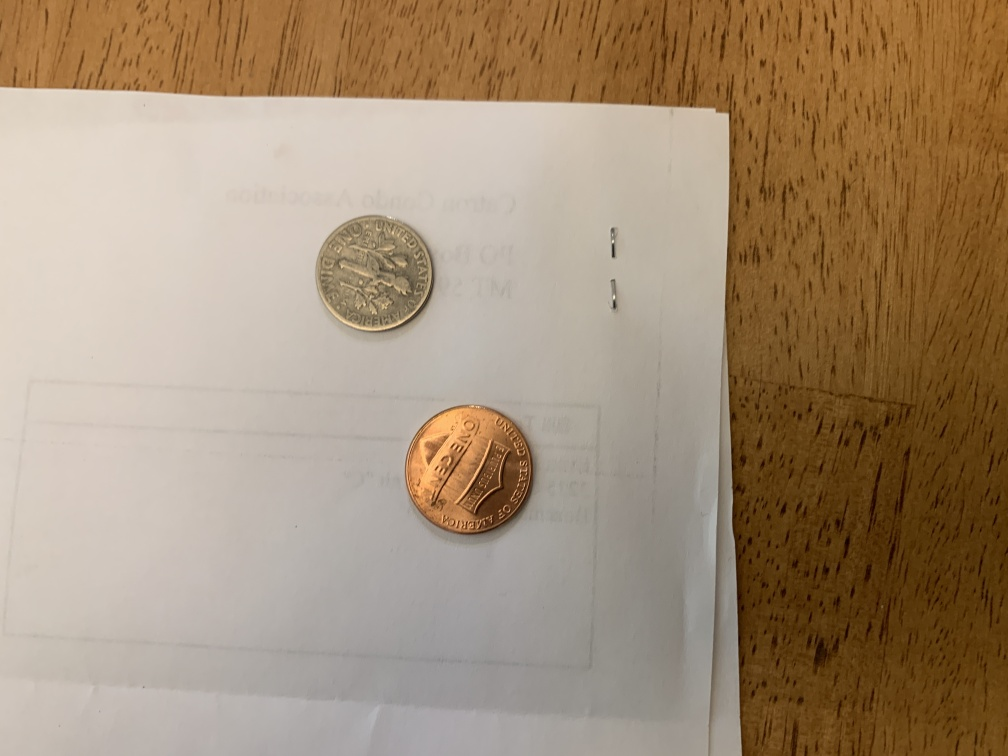dime: (312, 210, 437, 340)
penny: (402, 401, 537, 542)
